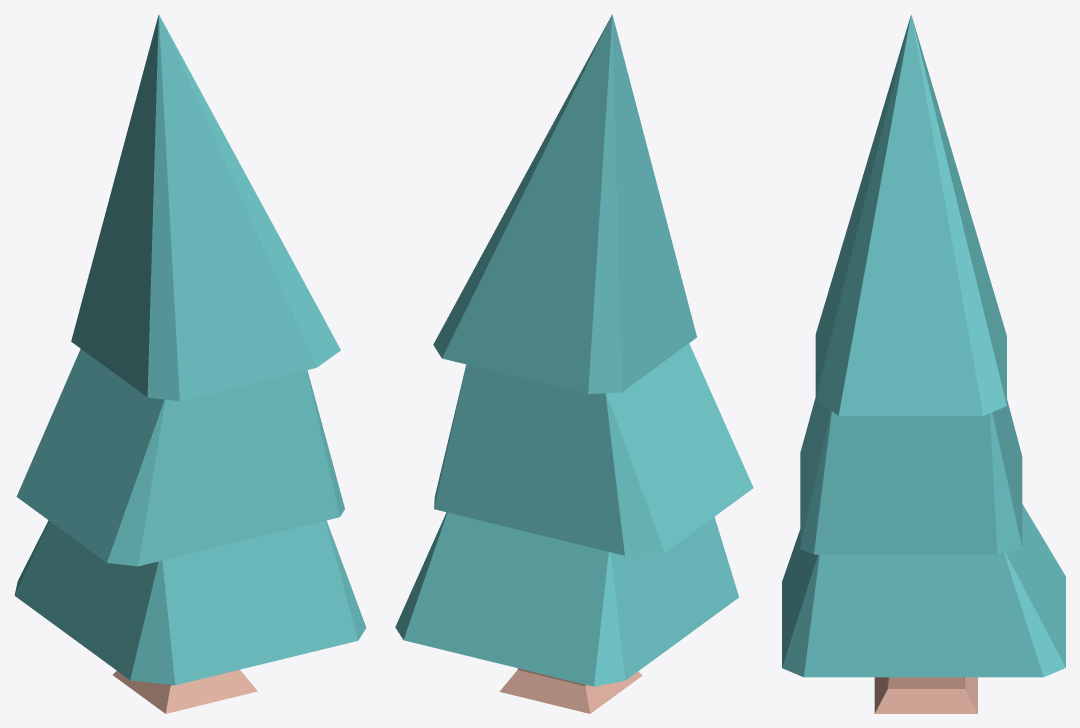
Rendered from tree-pine-small-b.glb.
3 views of the same model, side by side, from view 1: azimuth 30°, elevation 25°; view 2: azimuth 150°, elevation 25°; view 3: azimuth 270°, elevation 25° (orthographic). The views are drawn at different scales.
Parts seen in each view (by area): view 1: tree_pineSmallB; view 2: tree_pineSmallB; view 3: tree_pineSmallB.
Boxes of the visible parts, x1=… form: tree_pineSmallB: x1=14, y1=14, x2=366, y2=713; tree_pineSmallB: x1=395, y1=14, x2=753, y2=713; tree_pineSmallB: x1=782, y1=14, x2=1065, y2=713.
Bounding box in the file's own units: 0.3863 × 1.01 × 0.3919.
